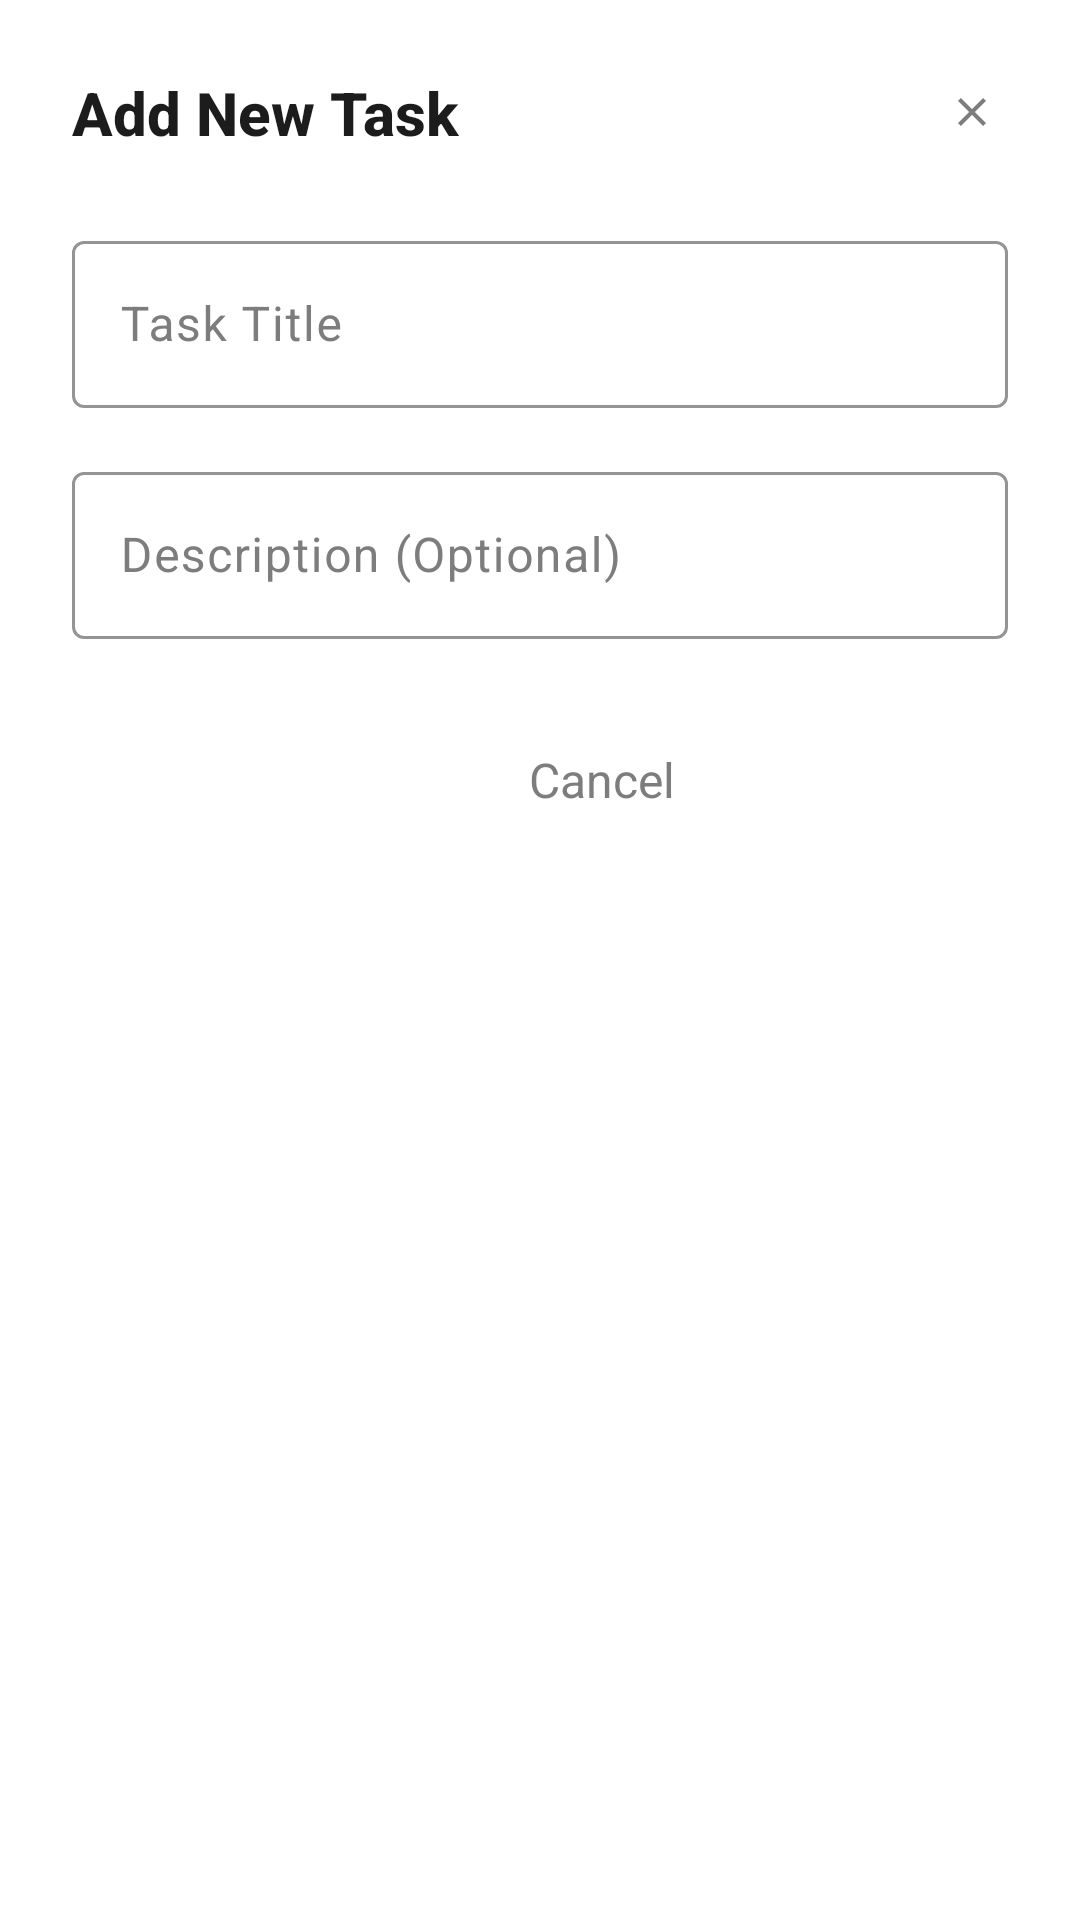

Icon click points for this 1080 x 1920 phone screenshot, format [x,y]:
Close: [972,112]
